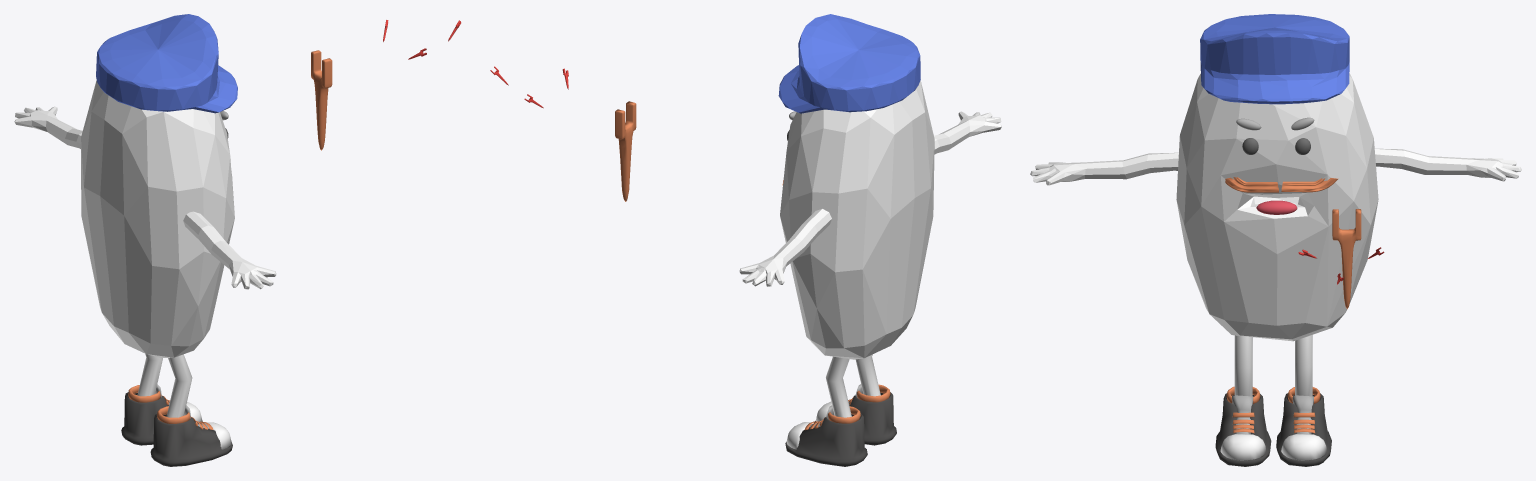
The model's file is krvinka1.fbx.
3 renders of one model, left to right at view 1: azimuth 30°, elevation 25°; view 2: azimuth 150°, elevation 25°; view 3: azimuth 270°, elevation 25°, orthographic. The views are drawn at different scales.
Visible parts, largest first — view 1: telo, ciapka, topanka_l, ruka_l, topanka_p, ruka_p, prak, noha_l, noha_p; view 2: telo, ciapka, topanka_p, ruka_p, topanka_l, ruka_l, prak, noha_p, noha_l; view 3: telo, ciapka, ruka_l, ruka_p, topanka_p, topanka_l, prak, noha_l, noha_p, spicka_topanka_p, spicka_toanka_l, fuzy_l (+1 smaller).
Boxes of the visible parts, <box> form: telo: <box>81,80,234,357</box>; ciapka: <box>96,14,237,113</box>; topanka_l: <box>150,414,232,466</box>; ruka_l: <box>183,211,276,289</box>; topanka_p: <box>121,392,202,445</box>; ruka_p: <box>14,106,82,148</box>; prak: <box>311,50,332,150</box>; noha_l: <box>166,354,192,417</box>; noha_p: <box>137,354,162,396</box>; telo: <box>780,80,934,359</box>; ciapka: <box>778,14,920,113</box>; topanka_p: <box>785,413,867,466</box>; ruka_p: <box>739,209,831,286</box>; topanka_l: <box>815,392,896,445</box>; ruka_l: <box>934,111,1001,154</box>; prak: <box>615,101,636,201</box>; noha_p: <box>826,356,851,417</box>; noha_l: <box>855,354,880,396</box>; telo: <box>1176,73,1378,341</box>; ciapka: <box>1200,14,1349,104</box>; ruka_l: <box>1030,152,1178,185</box>; ruka_p: <box>1374,148,1521,181</box>; topanka_p: <box>1276,393,1331,466</box>; topanka_l: <box>1215,393,1271,466</box>; prak: <box>1332,209,1361,309</box>; noha_l: <box>1234,335,1252,396</box>; noha_p: <box>1295,335,1312,396</box>; spicka_topanka_p: <box>1281,434,1326,460</box>; spicka_toanka_l: <box>1220,434,1265,460</box>; fuzy_l: <box>1225,177,1278,192</box>.
Bounding box in the file's own units: 616 × 627 × 644.
